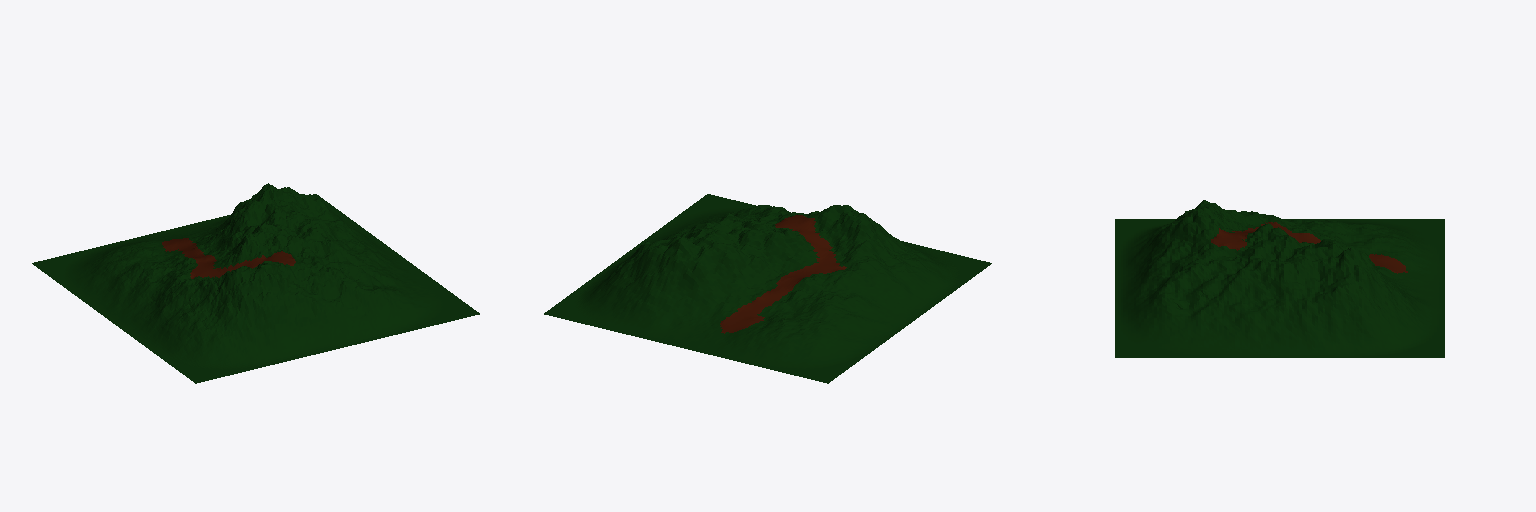
Rendered from mountain.obj.
The picture shows the model from 3 angles: view 1: azimuth 30°, elevation 25°; view 2: azimuth 150°, elevation 25°; view 3: azimuth 270°, elevation 25°; orthographic projection.
Bounding box in the file's own units: 20 × 4.39 × 20.